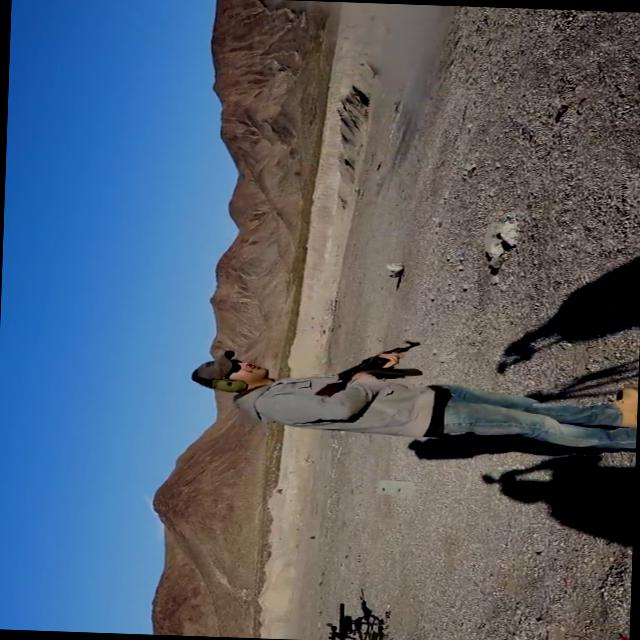long weapon: (312, 329, 429, 402)
